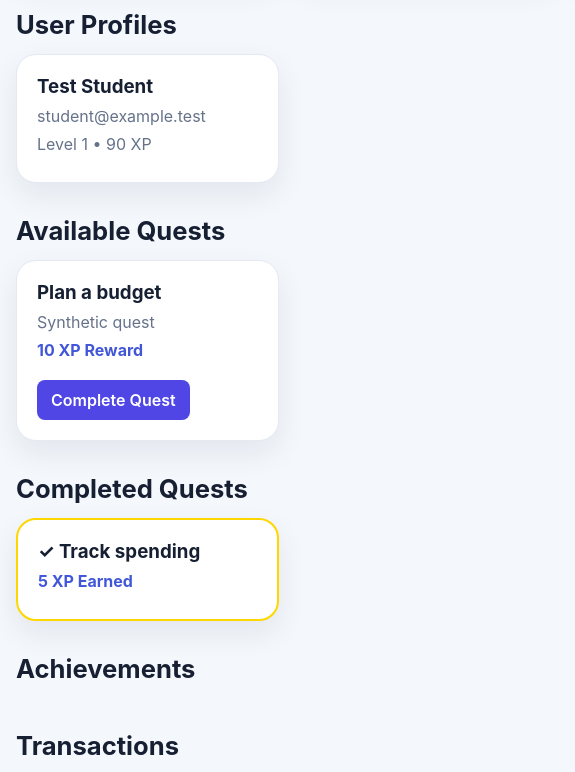
Defect regression checks › WB-19 keeps null completion flags available and preserves unrelated completion cards
This screenshot has width=575, height=772.
(page scrolled)
Click the button "Complete Quest". click: coordinates (113, 400)
box: [37,380,190,420]
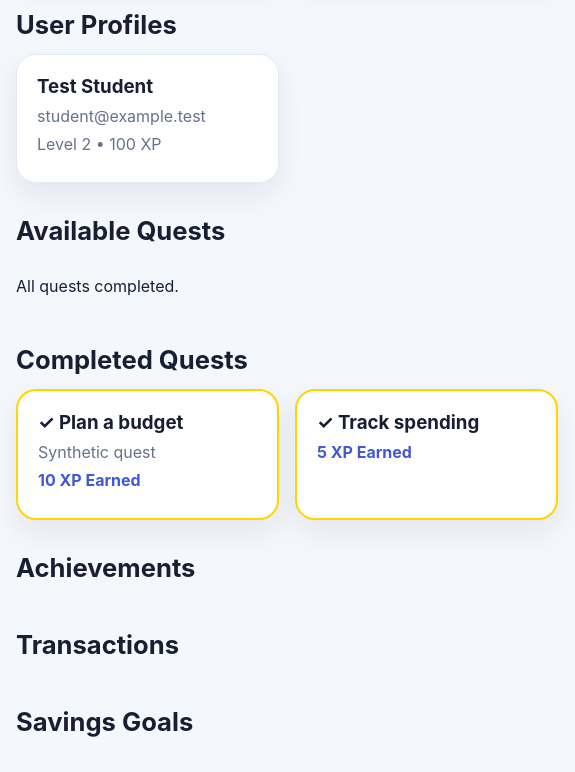
Expected: the heading "✓ Track spending" is shown, [317,411,479,434]
Expected: the heading "✓ Plan a budget" is shown, [38,411,183,434]
